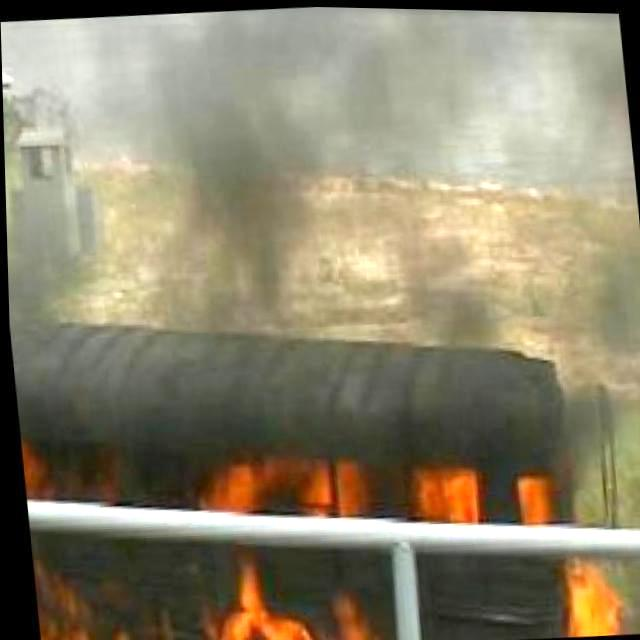fire: (30, 552, 386, 640), (324, 449, 548, 526), (547, 556, 640, 636), (202, 454, 314, 518)
